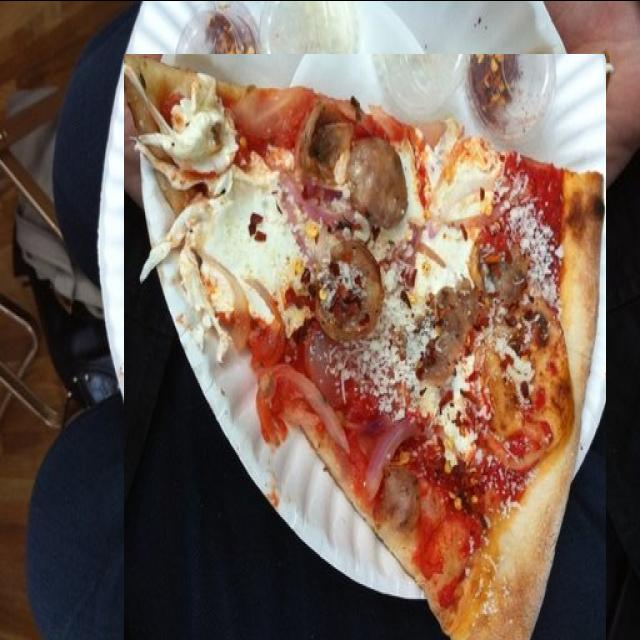pizza: (124, 53, 606, 640)
